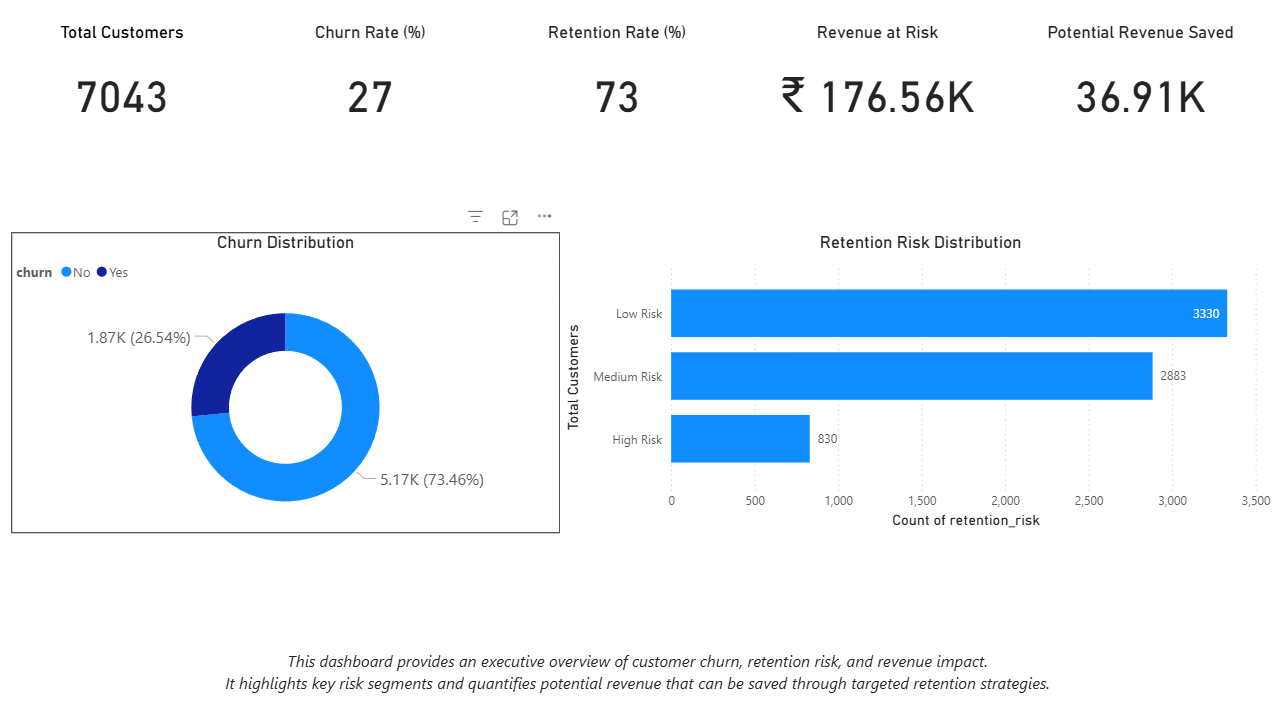

What the dashboard file says about the page in this screenshot:
{"tool":"powerbi","page":{"name":"Executive Summary","canvas":[1280,720],"ordinal":0},"visuals":[{"type":"card","title":"Total Customers","fields":{"Values":["churn_cleaned.Total Customers"]},"box":[0,31.1,252.5,120.7],"z":0},{"type":"card","title":"Churn Rate (%)","fields":{"Values":["churn_cleaned.Churn Rate (%)"]},"box":[252.5,31.1,241.3,120.7],"z":1000},{"type":"card","title":"Retention Rate (%)","fields":{"Values":["churn_cleaned.Retention Rate (%)"]},"box":[493.9,31.1,250,120.7],"z":2000},{"type":"card","title":"Revenue at Risk","fields":{"Values":["churn_cleaned.Revenue at Risk"]},"box":[743.9,31.1,268.7,120.7],"z":3000},{"type":"card","title":"Potential Revenue Saved","fields":{"Values":["churn_cleaned.Potential Revenue Saved"]},"box":[1012.6,31.1,255,120.7],"z":4000},{"type":"donutChart","title":"Churn Distribution","fields":{"Category":["churn_cleaned.churn"],"Y":["CountNonNull(churn_cleaned.customerid)"]},"box":[0,240.1,562.3,299.8],"z":5000},{"type":"clusteredBarChart","title":"Retention Risk Distribution","fields":{"Y":["CountNonNull(churn_cleaned.retention_risk)"],"Category":["churn_cleaned.retention_risk"]},"box":[562.3,240.1,717.8,299.8],"z":6000},{"type":"textbox","box":[63.4,650.6,1151.9,53.5],"z":7000}]}

Visuals, with their boxes in screenshot pixels (x1, y1, x2, y2), scaled from the page's 1280x720 canvas onto the 1277x705 screenshot:
"Total Customers" card: (0,30,252,149)
"Churn Rate (%)" card: (252,30,493,149)
"Retention Rate (%)" card: (493,30,742,149)
"Revenue at Risk" card: (742,30,1010,149)
"Potential Revenue Saved" card: (1010,30,1265,149)
"Churn Distribution" donutChart: (0,235,561,529)
"Retention Risk Distribution" clusteredBarChart: (561,235,1276,529)
textbox: (63,637,1212,689)
